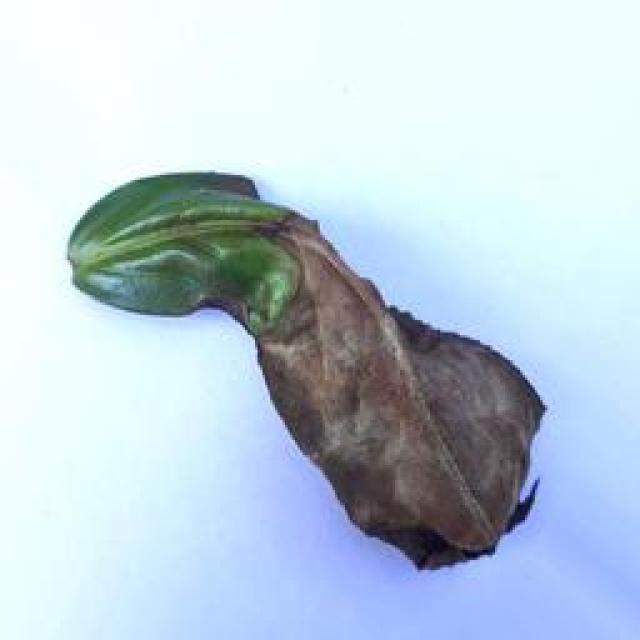Brown Blight: (52, 158, 545, 559)
